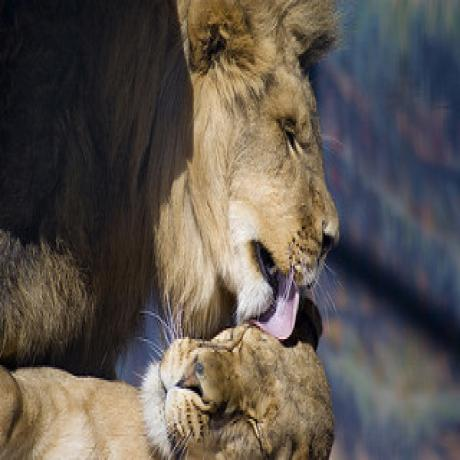Lion: (0, 0, 344, 347), (0, 320, 337, 460)
